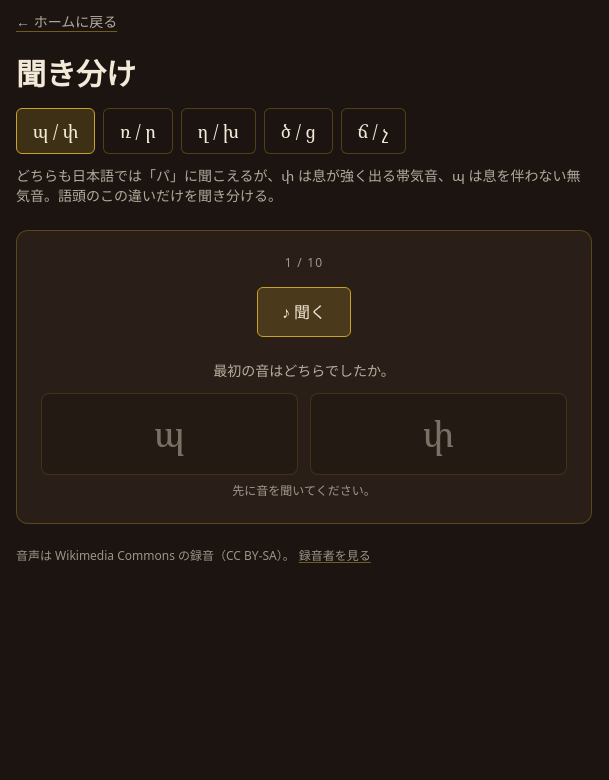
Test: ListeningChallenge（聞き分けチャレンジ, roadmap 3-2） › explains that accuracy alone is not enough on a two-way choice
The width and height of the screenshot is (609, 780).
Click the button "♪ 聞く". click: (304,312)
box: [257,287,351,337]
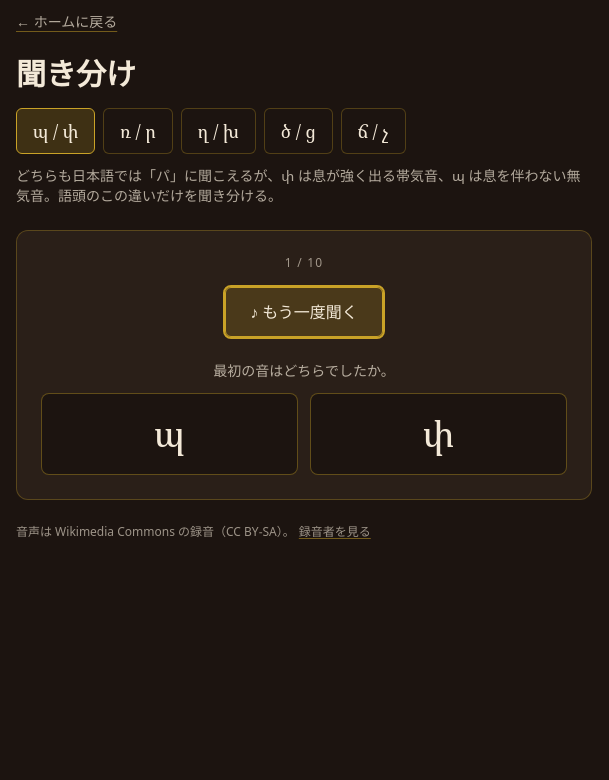
Click the button "պ". click: (170,434)
box: [41,393,298,475]
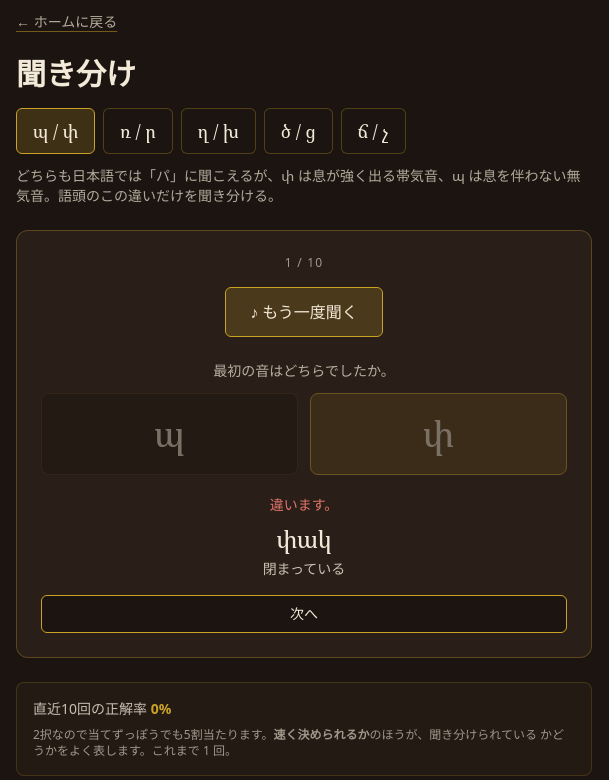
Expected: the button "次へ" is shown, [41,595,567,633]
Expected: the text "当てずっぽうでも5割" is shown, [33,726,274,743]
